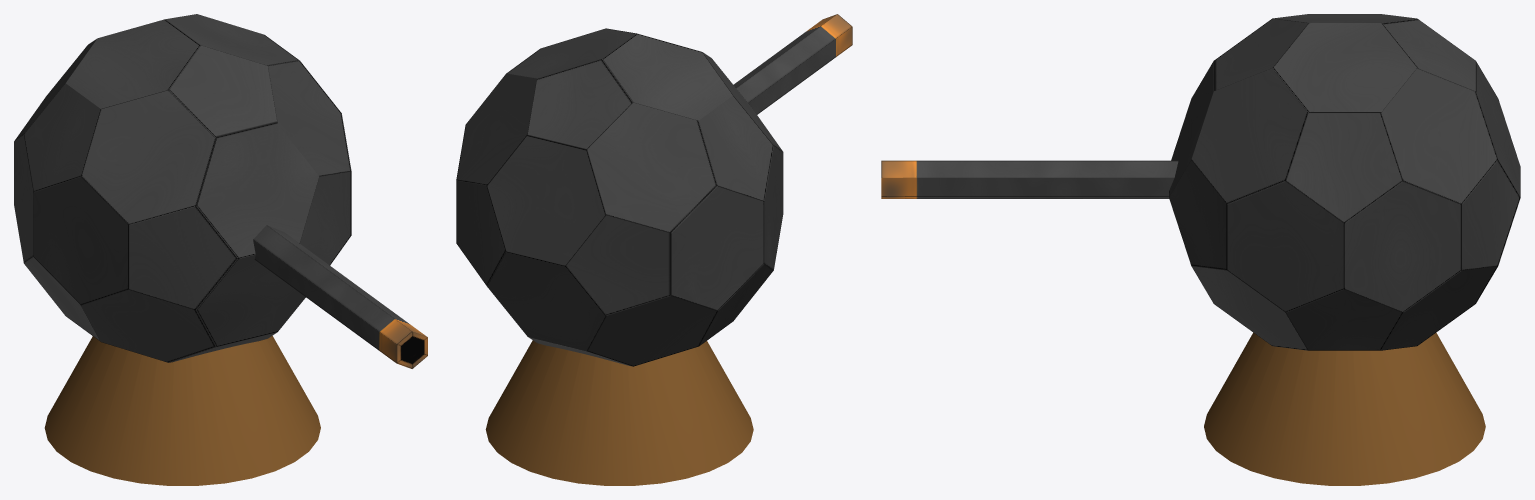
The model's file is MissleBatteryFBXLevel3.fbx.
The picture shows the model from 3 angles, left to right: view 1: azimuth 30°, elevation 25°; view 2: azimuth 150°, elevation 25°; view 3: azimuth 270°, elevation 25°; orthographic projection. The views are drawn at different scales.
Parts seen in each view (by area): view 1: polySurface2, polySurface4, polySurface3; view 2: polySurface2, polySurface4, polySurface3; view 3: polySurface2, polySurface4, polySurface3.
Part boxes in pixels (x1,y1,x2,y2): polySurface2: (14, 14, 351, 362); polySurface4: (44, 336, 320, 485); polySurface3: (253, 225, 427, 368); polySurface2: (456, 28, 783, 366); polySurface4: (485, 340, 753, 485); polySurface3: (733, 14, 852, 114); polySurface2: (1169, 14, 1520, 350); polySurface4: (1204, 332, 1485, 485); polySurface3: (881, 160, 1178, 198).
Size of the model in its own units: 9.38 by 11.88 by 17.04.
Materials: 3 (3 with a texture image).
